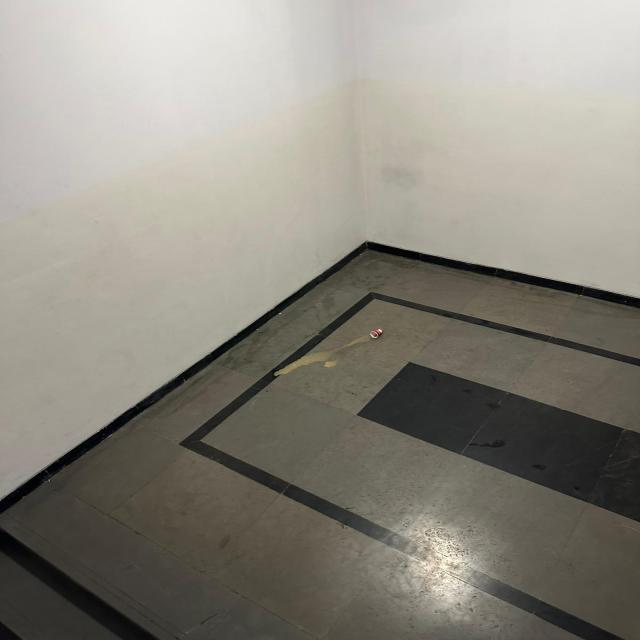cup: (370, 329, 384, 338)
spill: (335, 336, 373, 346)
